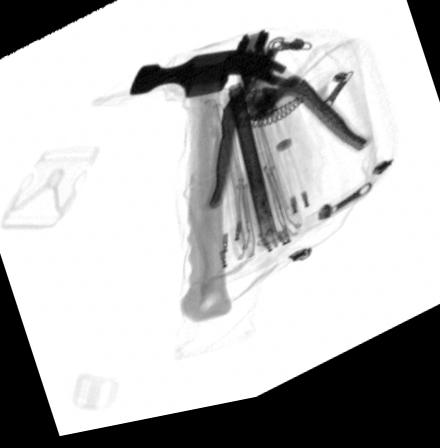Hammer: (126, 58, 286, 330)
Pliers: (205, 37, 371, 217)
